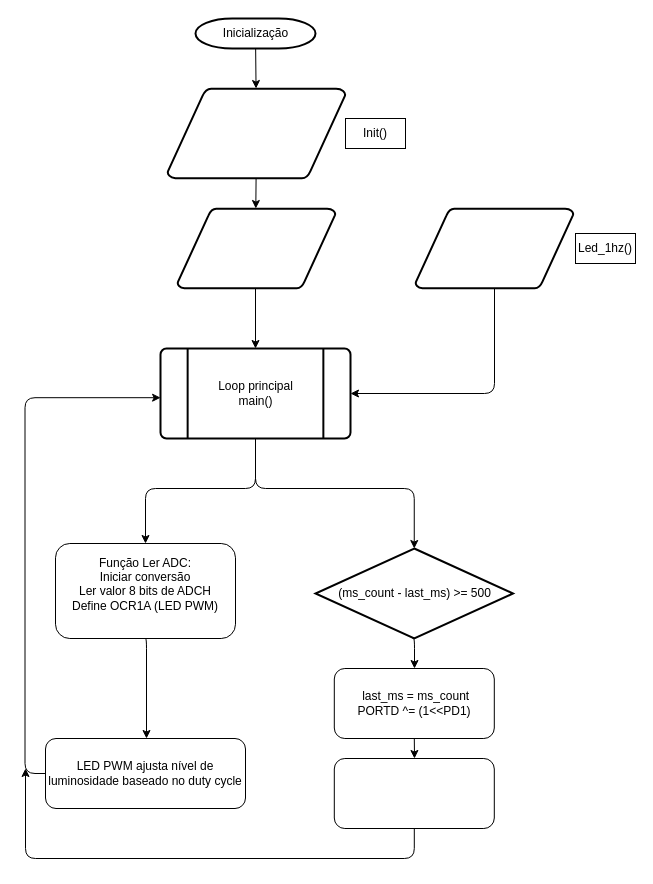
Image size: 653x884. Some labels were removed from this diagram. The shapes that lost their labels are listed below. From the top down, each one's centre as x and y in pixels, then its label:
(x=256, y=133): Configuração I/O Configuração ADC Timer1 (PWM) Timer0 (CTC) Interrupções Globais
(x=256, y=248): Interrupção TIMER0_COMPA_vect
(x=494, y=248): Função LED CTC
(x=413, y=793): LED CTC fica a piscar num intervalo de 500 ms
